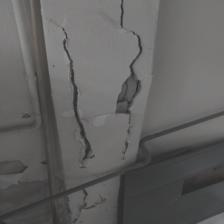High: (43, 1, 145, 224)
